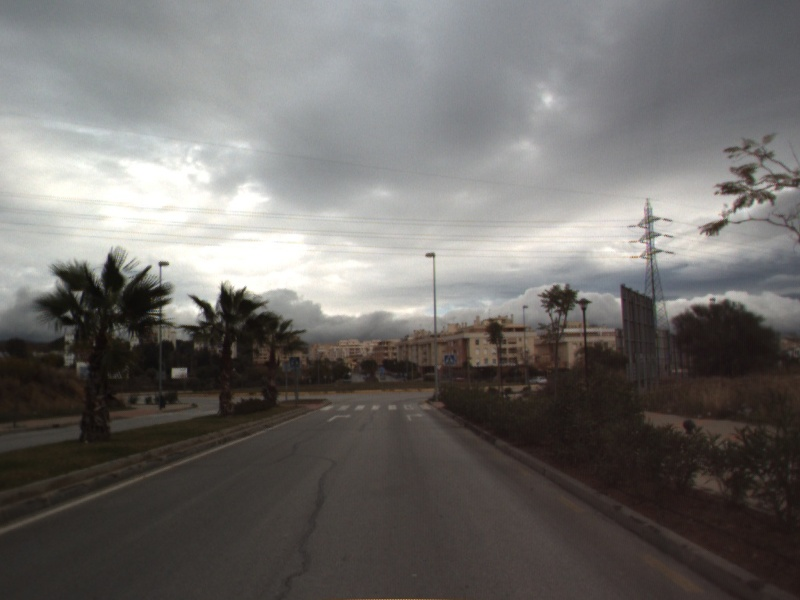RIGHT: (325, 412, 353, 424), (404, 411, 426, 423)
